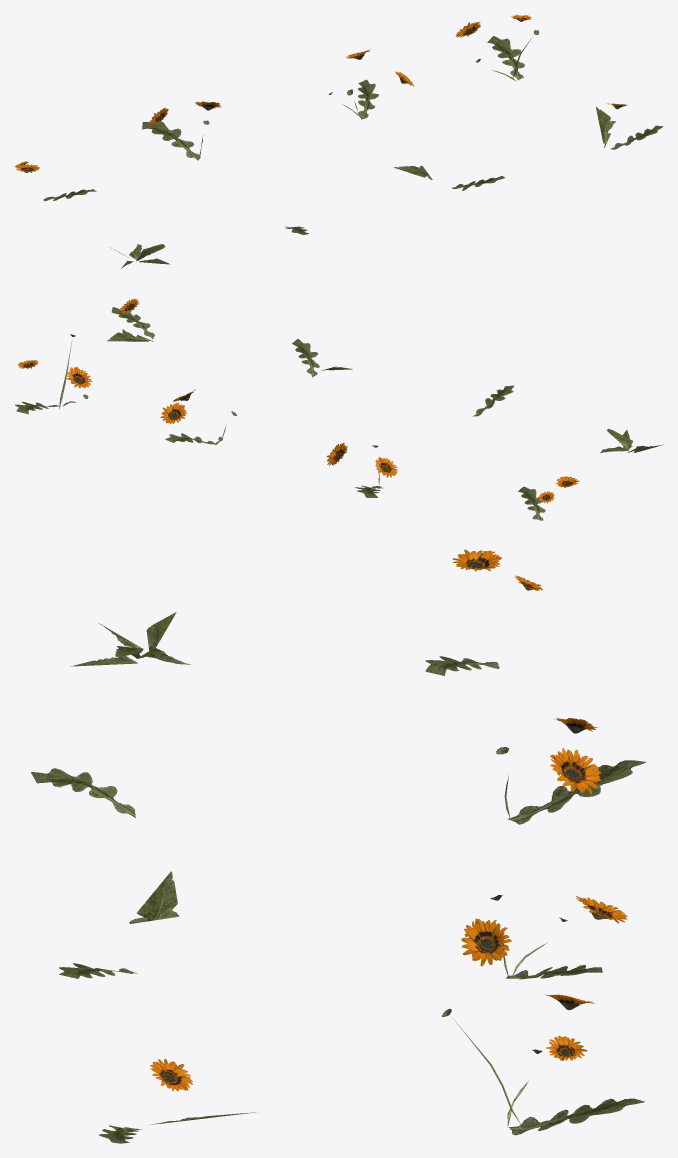
The model's file is flower_gazania.glb.
3 views of the same model, one above another, from view 1: azimuth 30°, elevation 25°; view 2: azimuth 150°, elevation 25°; view 3: azimuth 270°, elevation 25° (orthographic). The views are drawn at different scales.
Visible parts, largest first — view 1: flower_gazania_h_LOD0, flower_gazania_f_LOD0, flower_gazania_g_LOD0, flower_gazania_d_LOD0, flower_gazania_c_LOD0, flower_gazania_a_LOD0, flower_gazania_e_LOD0; view 2: flower_gazania_h_LOD0, flower_gazania_d_LOD0, flower_gazania_f_LOD0, flower_gazania_g_LOD0, flower_gazania_e_LOD0, flower_gazania_c_LOD0, flower_gazania_a_LOD0, flower_gazania_b_LOD0; view 3: flower_gazania_f_LOD0, flower_gazania_g_LOD0, flower_gazania_h_LOD0, flower_gazania_c_LOD0, flower_gazania_e_LOD0, flower_gazania_a_LOD0, flower_gazania_d_LOD0, flower_gazania_b_LOD0.
Part boxes in pixels (x1=…): flower_gazania_h_LOD0: x1=456, y1=14, x2=538, y2=81; flower_gazania_f_LOD0: x1=142, y1=101, x2=221, y2=160; flower_gazania_g_LOD0: x1=328, y1=49, x2=413, y2=119; flower_gazania_d_LOD0: x1=596, y1=103, x2=663, y2=149; flower_gazania_c_LOD0: x1=393, y1=165, x2=505, y2=190; flower_gazania_a_LOD0: x1=110, y1=244, x2=170, y2=268; flower_gazania_e_LOD0: x1=15, y1=161, x2=96, y2=201; flower_gazania_h_LOD0: x1=15, y1=334, x2=92, y2=414; flower_gazania_d_LOD0: x1=107, y1=298, x2=154, y2=341; flower_gazania_f_LOD0: x1=326, y1=443, x2=397, y2=497; flower_gazania_g_LOD0: x1=160, y1=389, x2=236, y2=444; flower_gazania_e_LOD0: x1=518, y1=476, x2=579, y2=520; flower_gazania_c_LOD0: x1=292, y1=339, x2=352, y2=377; flower_gazania_a_LOD0: x1=600, y1=429, x2=663, y2=453; flower_gazania_b_LOD0: x1=473, y1=385, x2=513, y2=416; flower_gazania_f_LOD0: x1=496, y1=718, x2=646, y2=824; flower_gazania_g_LOD0: x1=461, y1=895, x2=627, y2=979; flower_gazania_h_LOD0: x1=442, y1=994, x2=644, y2=1135; flower_gazania_c_LOD0: x1=59, y1=871, x2=179, y2=978; flower_gazania_e_LOD0: x1=425, y1=549, x2=542, y2=675; flower_gazania_a_LOD0: x1=71, y1=612, x2=190, y2=666; flower_gazania_d_LOD0: x1=99, y1=1058, x2=258, y2=1143; flower_gazania_b_LOD0: x1=31, y1=768, x2=135, y2=817.
Bounding box in the file's own units: 1.4 × 0.1517 × 0.6734.
Materials: 1 (1 with a texture image).
